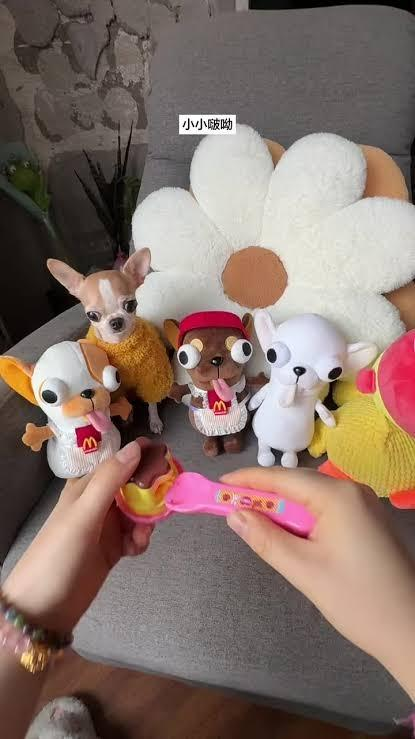adult_dog: (44, 246, 174, 435)
non-dog: (251, 306, 375, 470), (0, 338, 133, 485), (166, 308, 256, 458)
